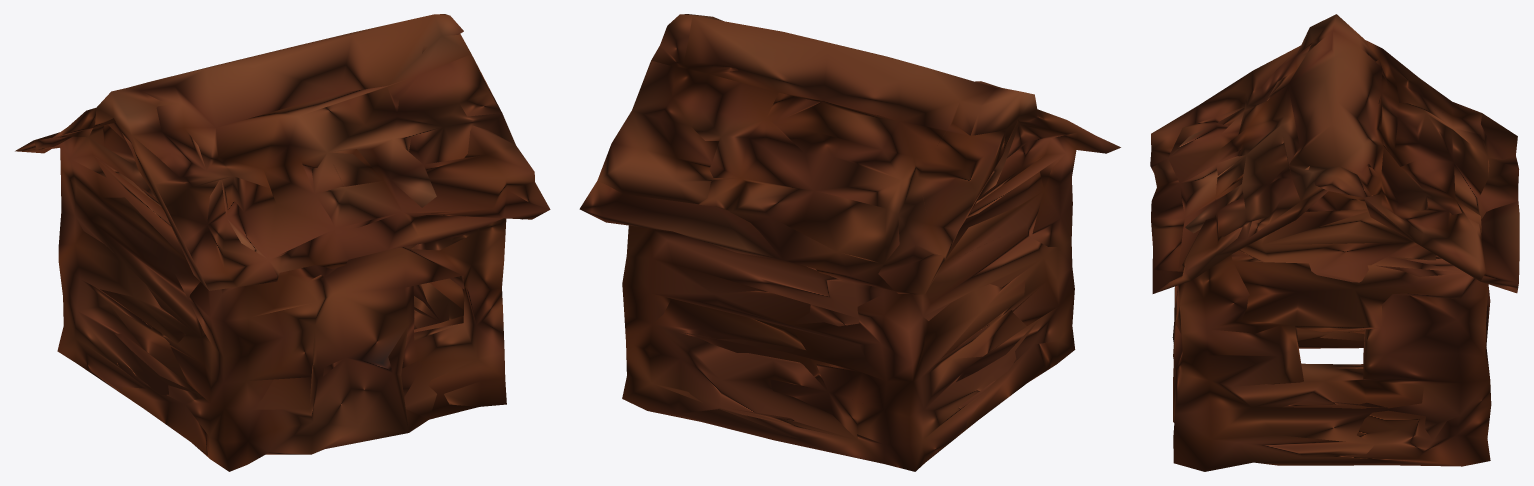
Rendered from gen3d-wooden-hut-lod0.glb.
The picture shows the model from 3 angles, left to right: view 1: azimuth 30°, elevation 25°; view 2: azimuth 150°, elevation 25°; view 3: azimuth 270°, elevation 25°; orthographic projection. The views are drawn at different scales.
Visible parts, largest first — view 1: part_0; view 2: part_0; view 3: part_0.
Boxes of the visible parts, x1,y1,x2,y2 form: part_0: (15, 14, 550, 471); part_0: (579, 14, 1120, 471); part_0: (1150, 14, 1519, 471).
Bounding box in the file's own units: 1.09 × 0.9989 × 1.07.
